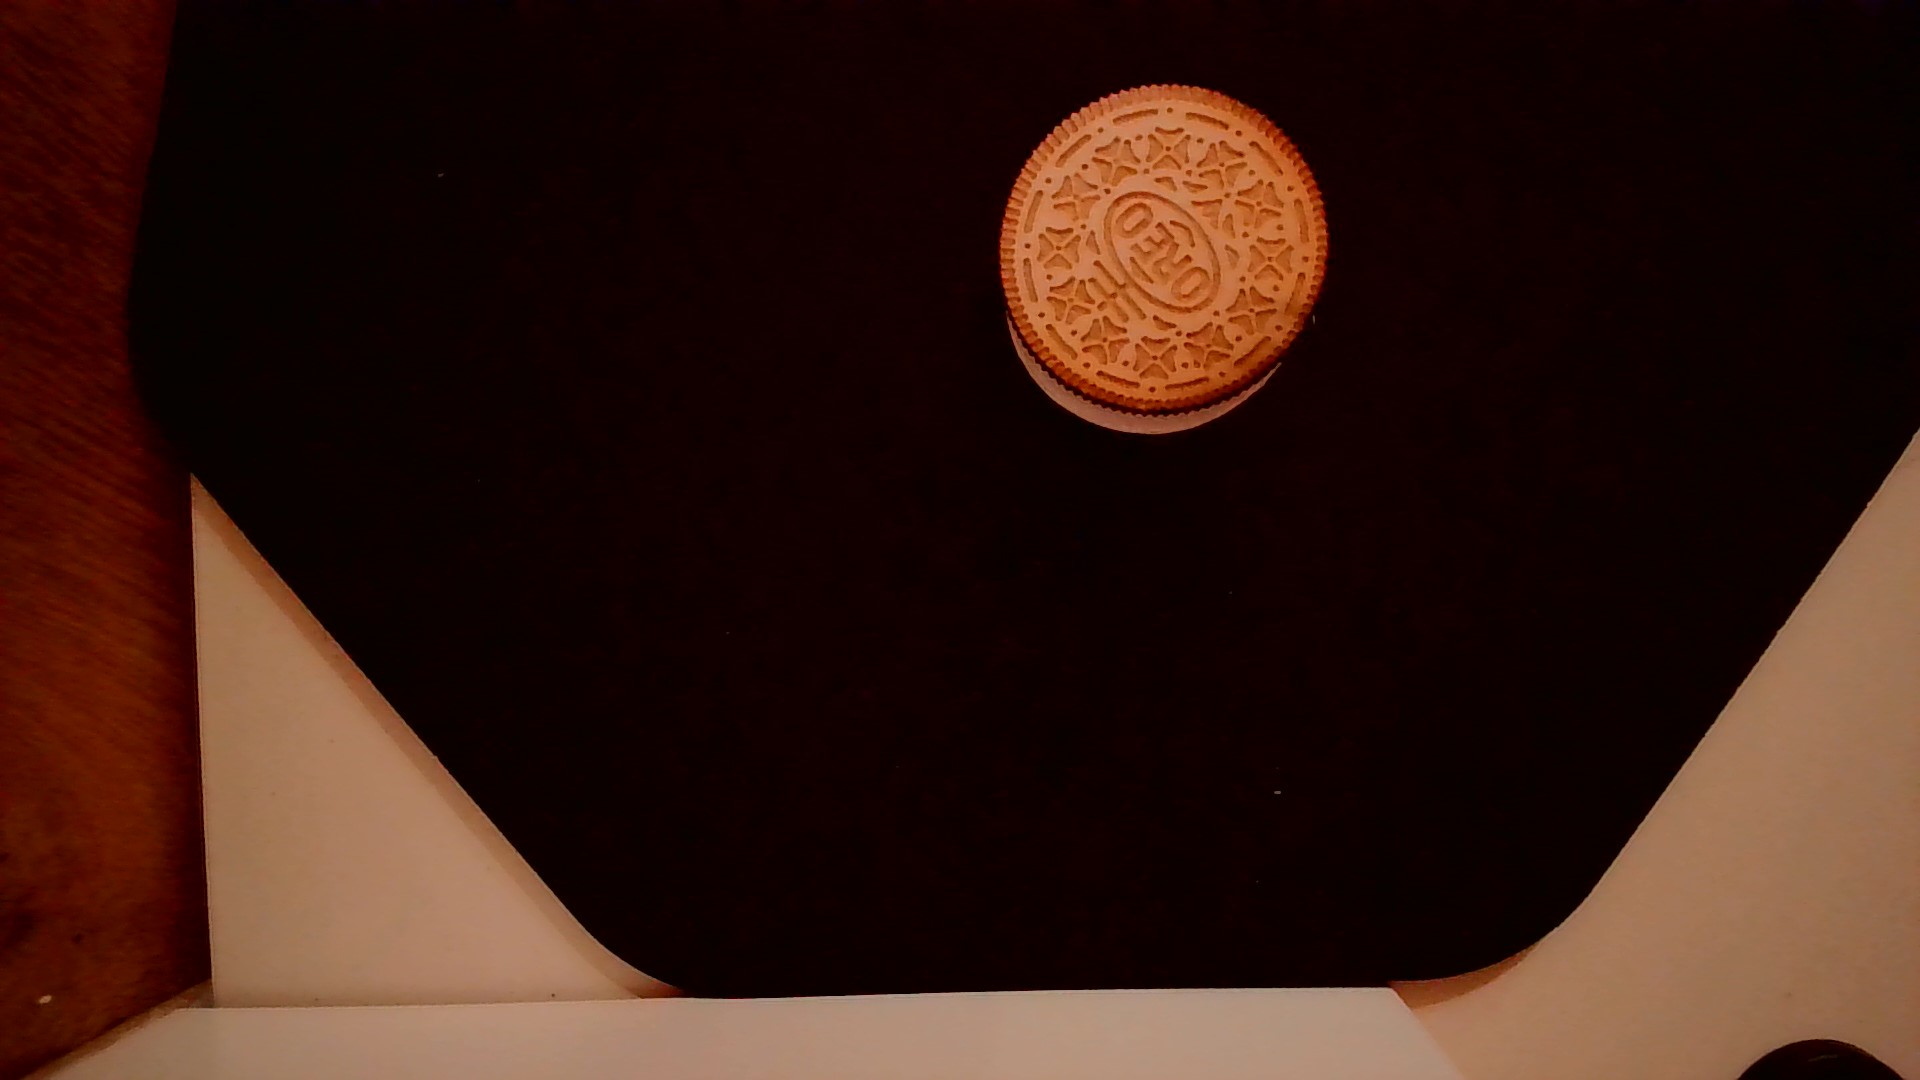Décalé: (1005, 307, 1290, 444)
Oréo: (992, 73, 1335, 421)
